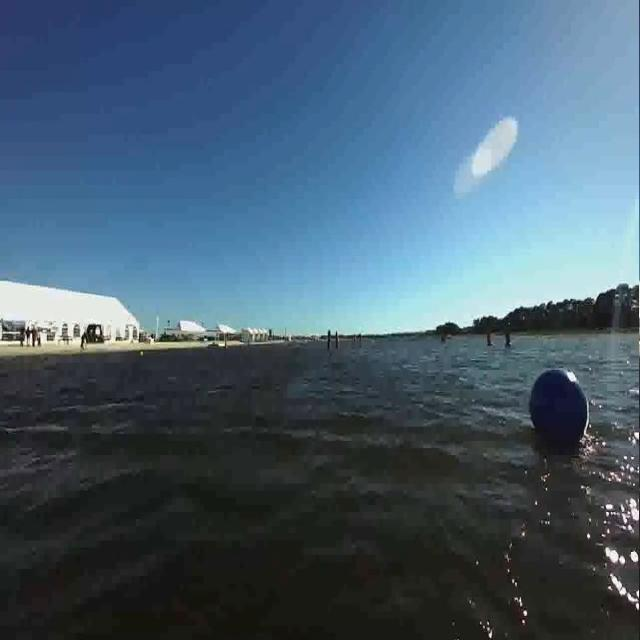black-buoy: (529, 362, 590, 447)
green-column-buoy: (504, 320, 513, 351)
red-column-buoy: (487, 327, 494, 348)
